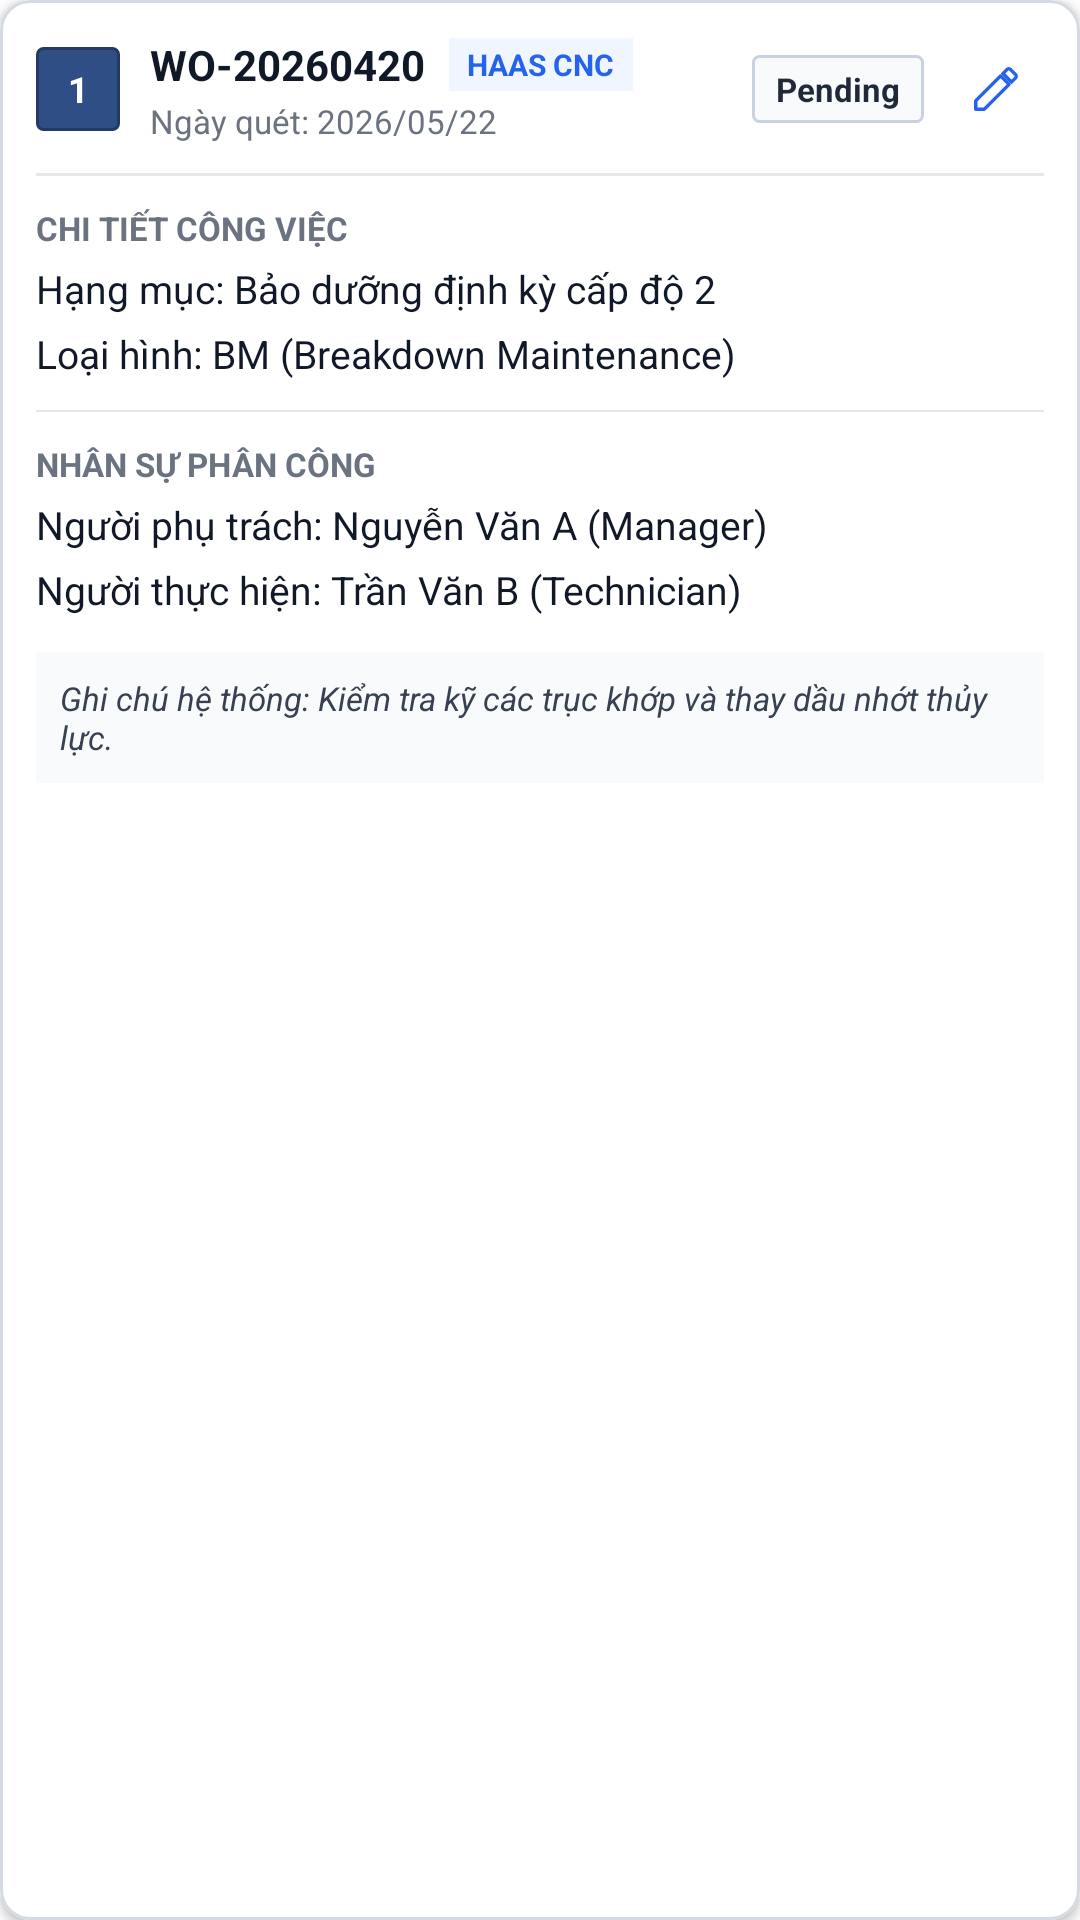

Point at icon controls on the screen. Image size 1080w x 1920h, points as [x,y].
pencil: [996,89]
